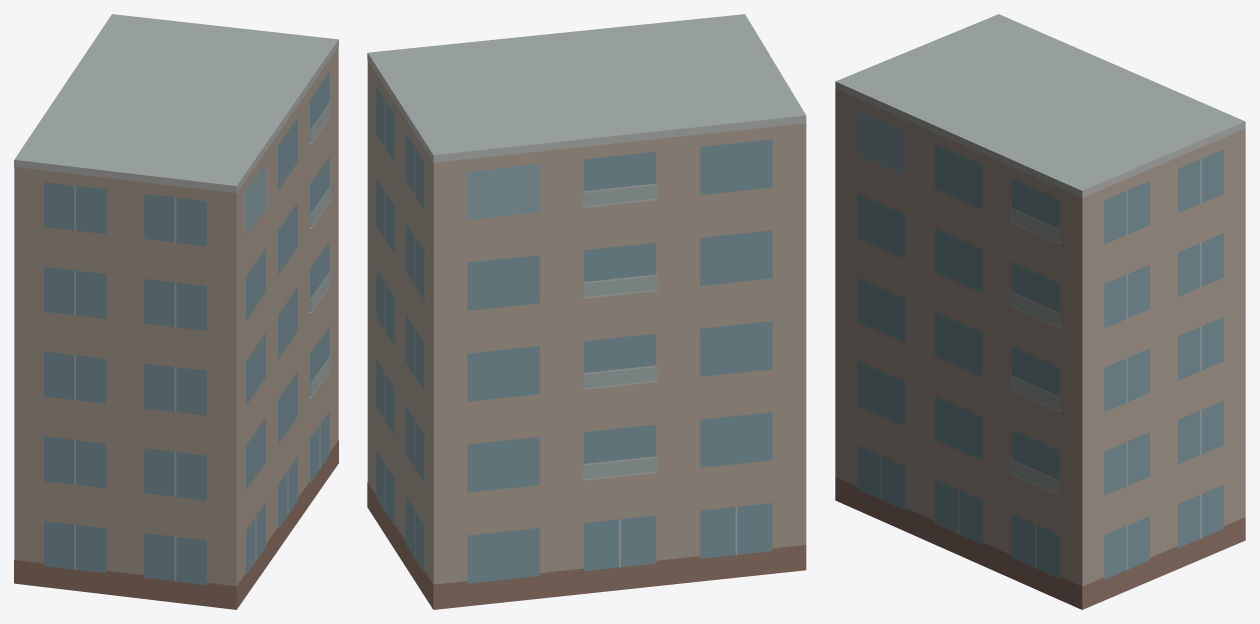
File: survey-upis-33028550.glb
3 renders of one model, left to right at view 1: azimuth 30°, elevation 25°; view 2: azimuth 150°, elevation 25°; view 3: azimuth 270°, elevation 25°, orthographic. The views are drawn at different scales.
Visible parts, largest first — view 1: survey-upis-33028550.tmp; view 2: survey-upis-33028550.tmp; view 3: survey-upis-33028550.tmp.
Boxes of the visible parts, bbox=[...] form: survey-upis-33028550.tmp: bbox=[14, 14, 338, 609]; survey-upis-33028550.tmp: bbox=[367, 14, 806, 609]; survey-upis-33028550.tmp: bbox=[835, 14, 1245, 609].
Size of the model in its own units: 13.14 by 14.5 by 12.88.
